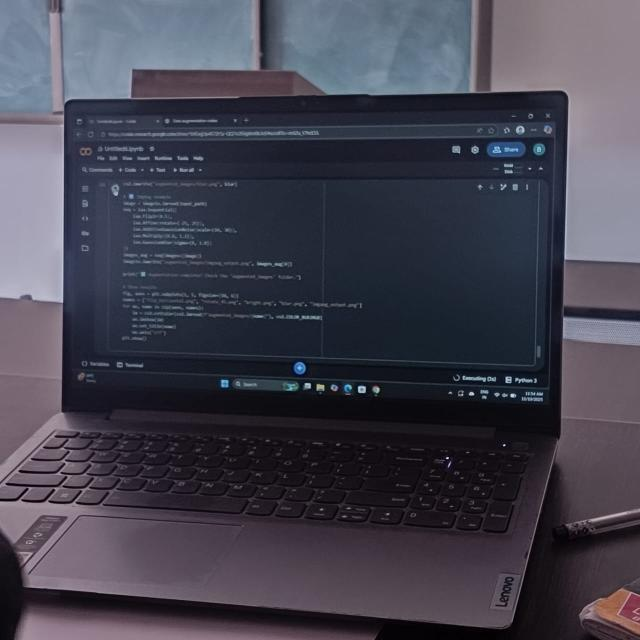laptop: (0, 89, 580, 622)
